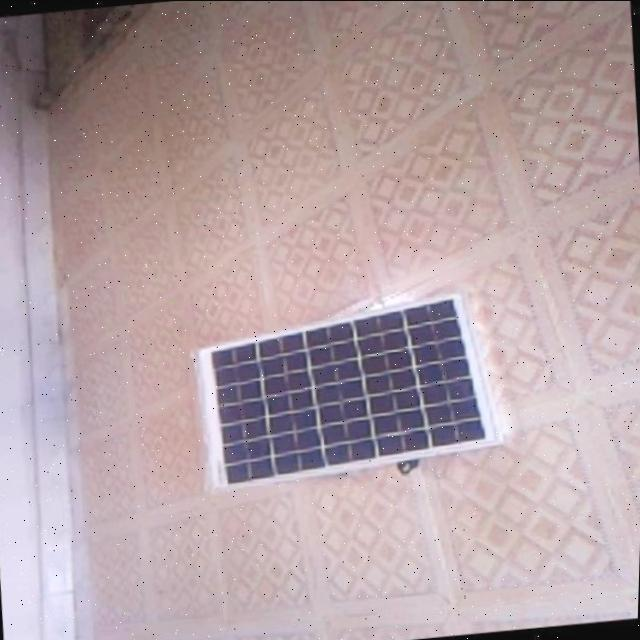Normal Solar Panel: (193, 290, 512, 492)
